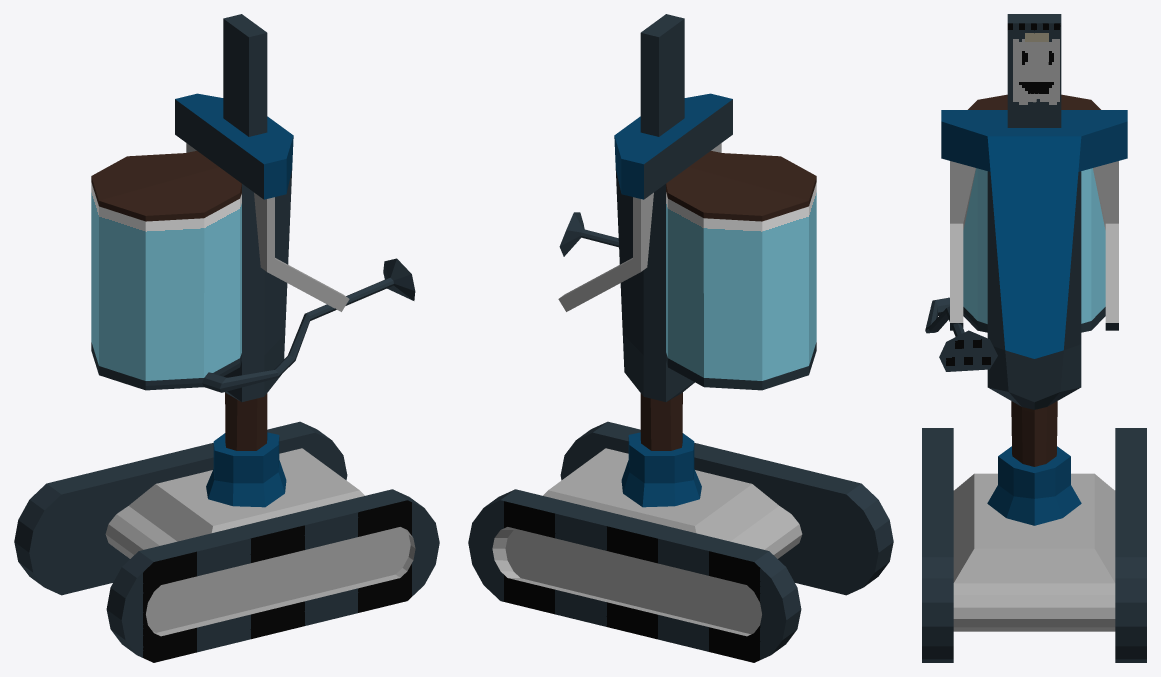
Rendered from Growbot.fbx.
The picture shows the model from 3 angles, left to right: view 1: azimuth 30°, elevation 25°; view 2: azimuth 150°, elevation 25°; view 3: azimuth 270°, elevation 25°; orthographic projection. The views are drawn at different scales.
Visible parts, largest first — view 1: Cylinder; view 2: Cylinder; view 3: Cylinder.
Part boxes in pixels (x1,y1,x2,y2): Cylinder: [14, 14, 439, 662]; Cylinder: [468, 14, 893, 662]; Cylinder: [922, 14, 1146, 662].
Bounding box in the file's own units: 118 × 200 × 69.06.
Materials: 1 (1 with a texture image).
